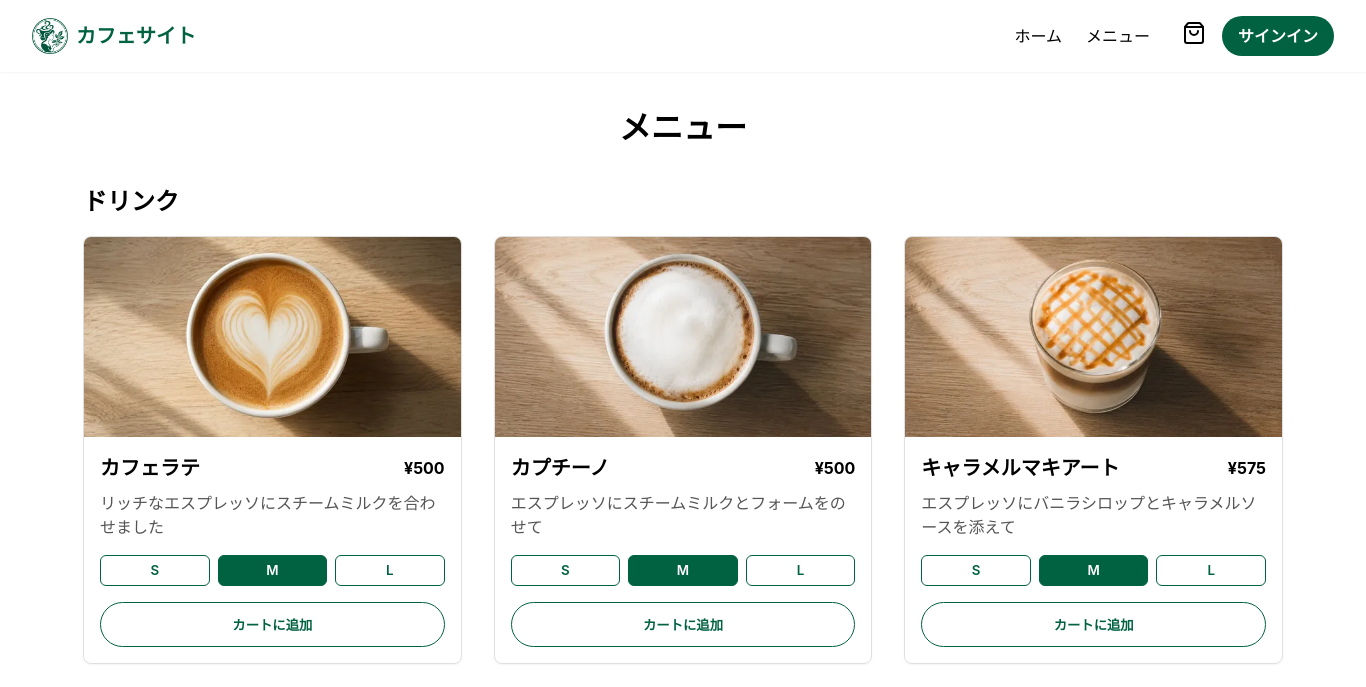
Test: カート › ドリンクはサイズを選べて、選んだサイズで金額が変わる
// 先頭の商品（カフェラテ）を L サイズに変更してから追加する
Click the button "L" below "リッチなエスプレッソにスチームミルクを合わせました" at [390, 570], box [335,555,445,586]
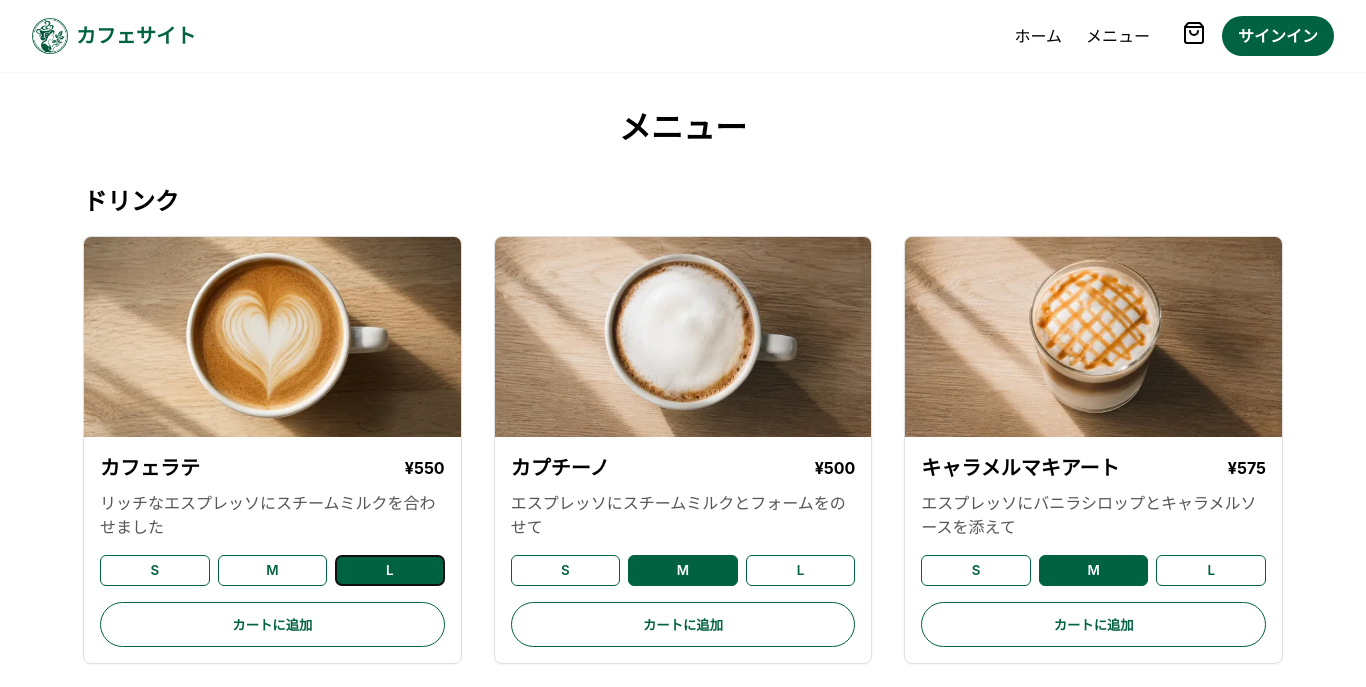
Click the button "カートに追加" below "リッチなエスプレッソにスチームミルクを合わせました" at [272, 624], box [100,602,445,647]
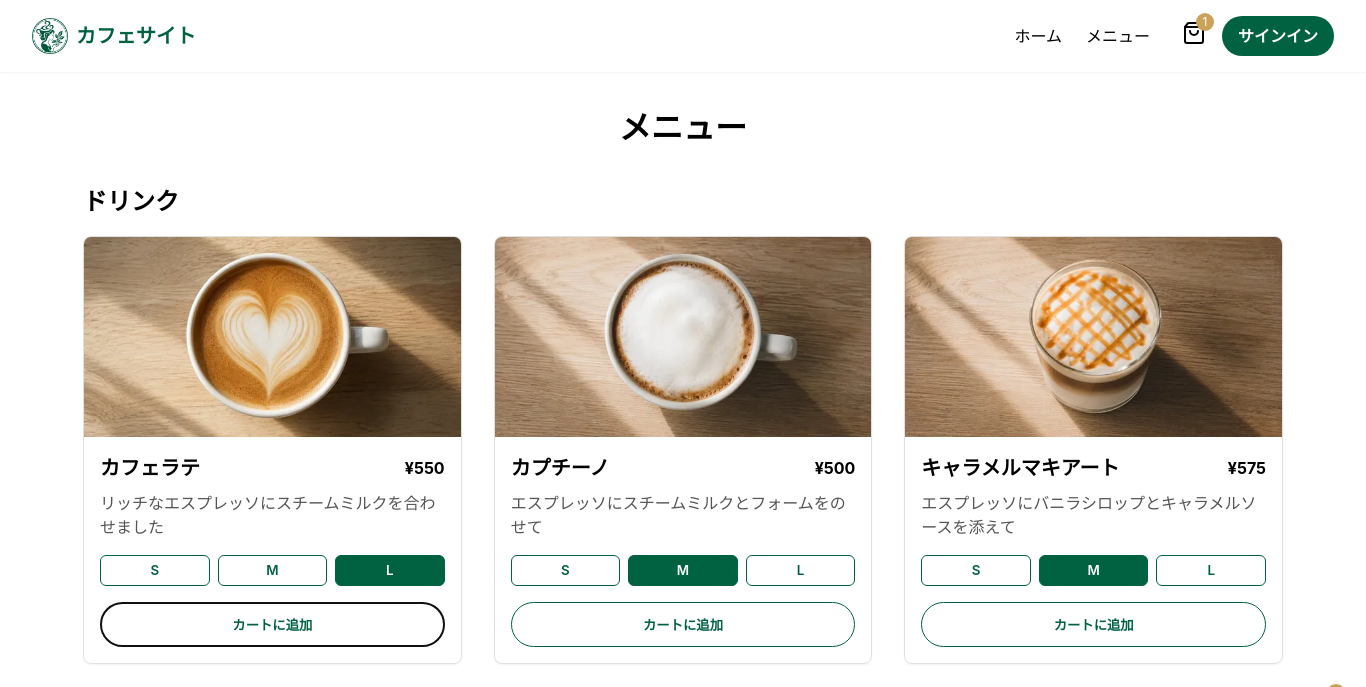
Click the link named "カート（" at [1194, 36], box [1182,21,1206,51]
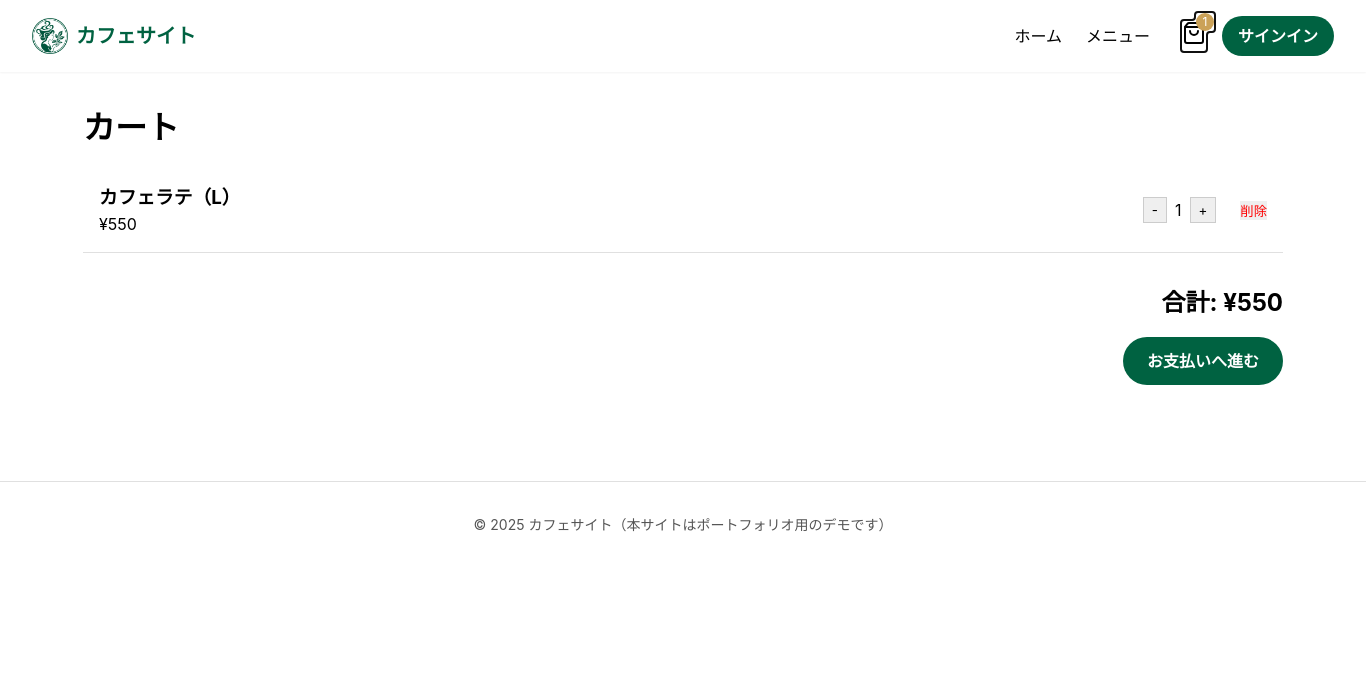
Expected: the text "¥550" is shown, [99,214,137,234]
Expected: the heading "カフェラテ（L）" is shown, [99,184,240,212]
